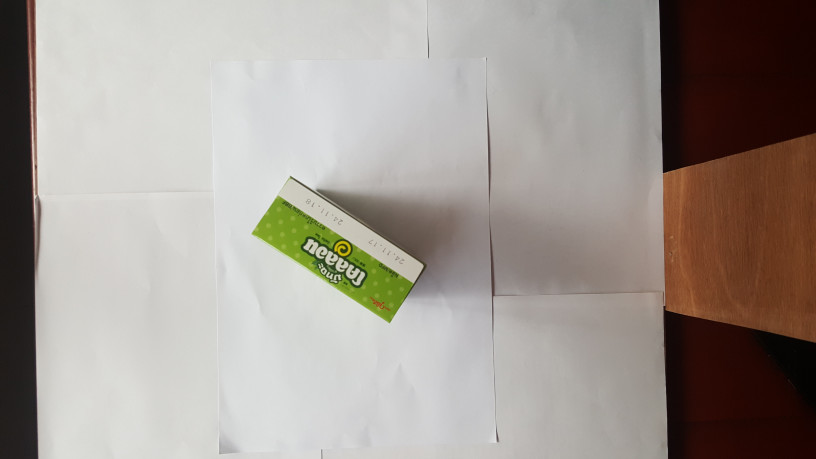collon-matcha: (246, 173, 428, 326)
